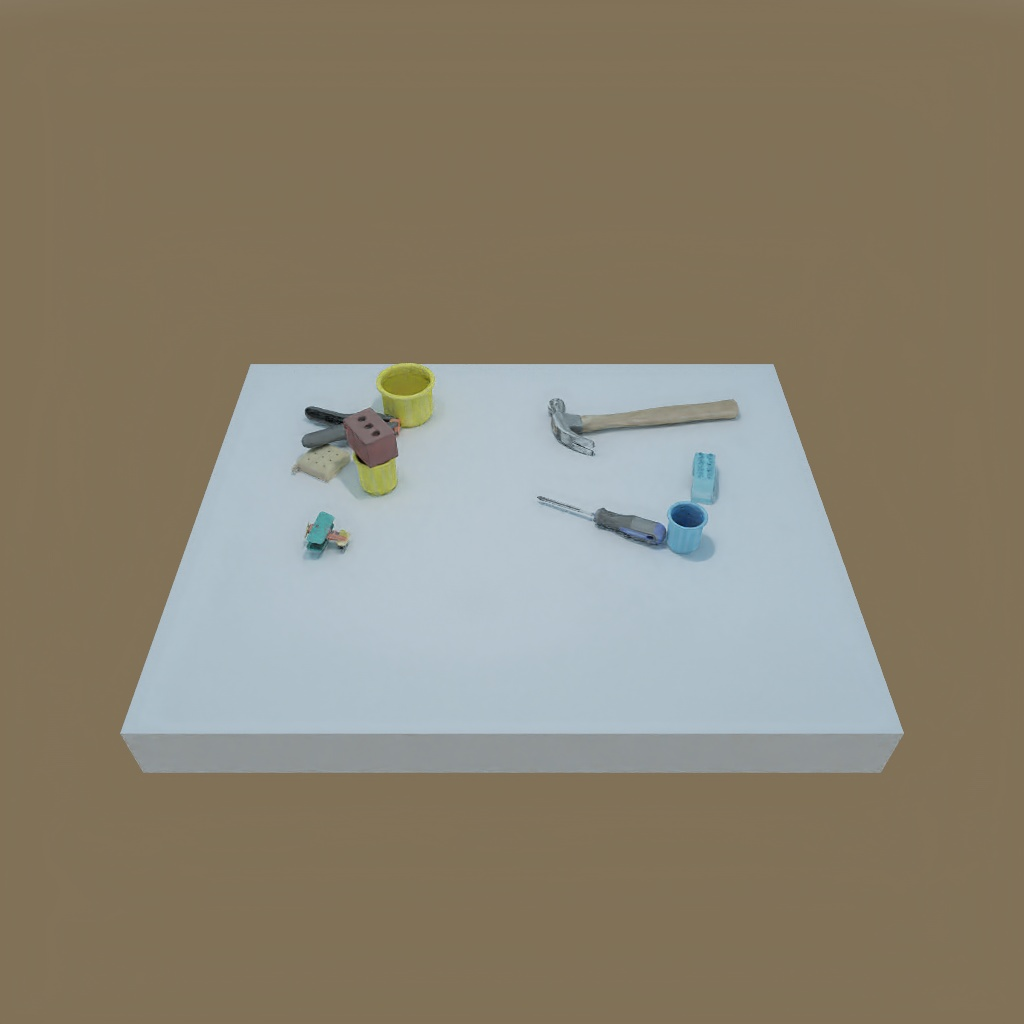hammer: (544, 397, 741, 453)
nine_hole_peg_test: (295, 439, 348, 489)
